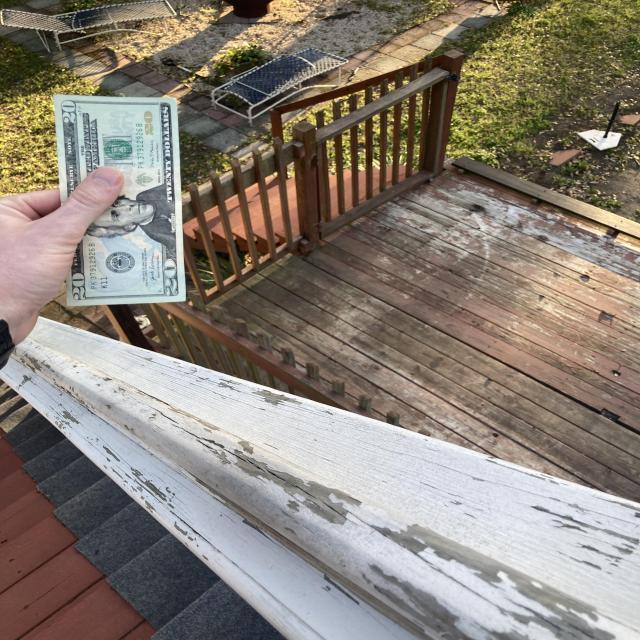twenty: (52, 95, 186, 306)
